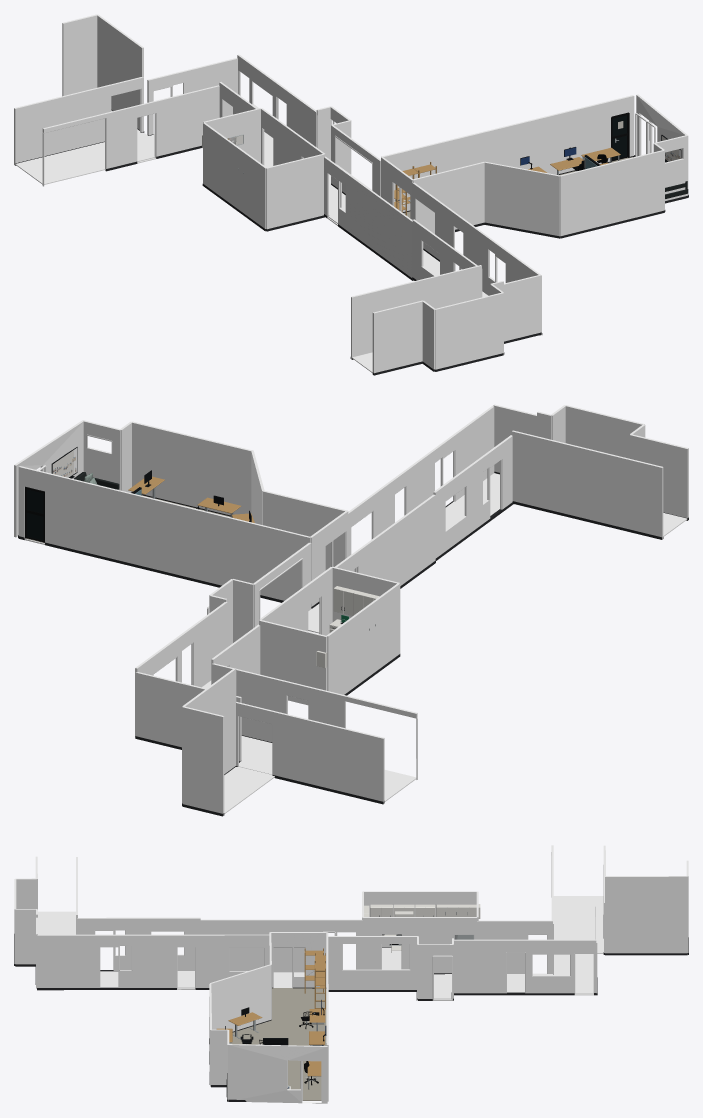
Rendered from model-fdb450dc8212.glb.
The picture shows the model from 3 angles, top to bottom: view 1: azimuth 30°, elevation 25°; view 2: azimuth 150°, elevation 25°; view 3: azimuth 270°, elevation 25°; orthographic projection. The views are drawn at different scales.
Parts seen in each view (by area): view 1: architecture_region_lab-wall-1, architecture_region_lab-wall-5, architecture_region_north-inner, architecture_region_north-outer, architecture_region_lab-hall-west, architecture_region_lab-wall-6, architecture_region_west-inner, architecture_region_west-alcove-back, architecture_region_kitchen-wall-4, architecture_region_kitchen-wall-3, architecture_region_south-hall-east, architecture_region_west-outer-left (+20 smaller); view 2: architecture_region_lab-wall-1, architecture_region_west-inner, architecture_region_lab-wall-5, architecture_region_north-outer, architecture_region_south-hall-east, architecture_region_kitchen-wall-4, architecture_region_north-inner, architecture_region_lab-hall-west, architecture_region_stair-north, architecture_region_south-hall-west, architecture_region_kitchen-wall-1, architecture_region_north-entry (+21 smaller); view 3: architecture_region_south-hall-east, architecture_region_stair-east, architecture_region_central-east, architecture_region_lab-wall-2, architecture_region_lab-hall-west, architecture_floor_lab-2f, architecture_region_kitchen-wall-2, architecture_floor_north-hall-2f, architecture_region_central-east-south, architecture_region_lab-wall-6, architecture_region_south-hall-west, architecture_region_central-west (+11 smaller).
Part boxes in pixels (x1,y1,x2,y2): architecture_region_lab-wall-1: (381, 95, 634, 211); architecture_region_lab-wall-5: (560, 150, 664, 237); architecture_region_north-inner: (42, 85, 219, 186); architecture_region_north-outer: (14, 85, 108, 165); architecture_region_lab-hall-west: (324, 156, 412, 277); architecture_region_lab-wall-6: (484, 161, 560, 236); architecture_region_west-inner: (351, 265, 481, 359); architecture_region_west-alcove-back: (434, 292, 503, 369); architecture_region_kitchen-wall-4: (203, 122, 266, 228); architecture_region_kitchen-wall-3: (266, 154, 324, 229); architecture_region_south-hall-east: (412, 182, 541, 335); architecture_region_west-outer-left: (372, 300, 422, 373); architecture_region_lab-wall-1: (18, 466, 310, 600); architecture_region_west-inner: (511, 430, 663, 539); architecture_region_lab-wall-5: (131, 421, 253, 515); architecture_region_north-outer: (275, 711, 384, 803); architecture_region_south-hall-east: (348, 405, 494, 571); architecture_region_kitchen-wall-4: (326, 583, 400, 694); architecture_region_north-inner: (211, 663, 417, 779); architecture_region_lab-hall-west: (335, 494, 435, 585); architecture_region_stair-north: (182, 706, 224, 815); architecture_region_south-hall-west: (433, 435, 512, 557); architecture_region_kitchen-wall-1: (259, 620, 327, 705); architecture_region_north-entry: (135, 672, 241, 761); architecture_region_south-hall-east: (37, 934, 269, 989); architecture_region_stair-east: (605, 876, 687, 953); architecture_region_central-east: (454, 939, 596, 995); architecture_region_lab-wall-2: (228, 1044, 327, 1103); architecture_region_lab-hall-west: (200, 919, 362, 972); architecture_floor_lab-2f: (229, 988, 326, 1100); architecture_region_kitchen-wall-2: (363, 917, 476, 973); architecture_floor_north-hall-2f: (553, 896, 603, 994); architecture_region_central-east-south: (328, 936, 417, 989); architecture_region_lab-wall-6: (210, 964, 271, 1031); architecture_region_south-hall-west: (77, 917, 200, 970); architecture_region_central-west: (477, 920, 552, 973).
Bounding box in the file's own units: 24.21 × 4.21 × 32.79.
Materials: 40 (2 with a texture image).
